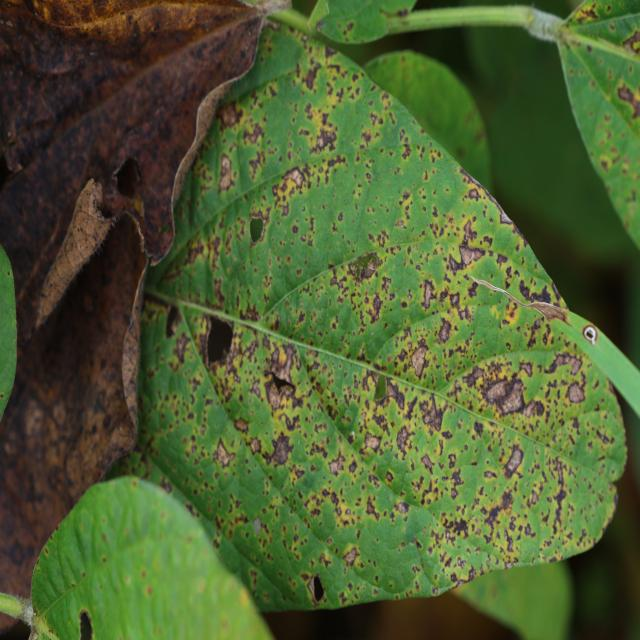Bacterial_Blight: (211, 160, 322, 306), (357, 150, 486, 271), (213, 328, 305, 473), (194, 406, 288, 537), (389, 236, 495, 348), (397, 416, 493, 531), (330, 486, 429, 597), (522, 448, 620, 560), (375, 308, 504, 386), (347, 380, 427, 494), (227, 495, 312, 599), (480, 222, 565, 310), (478, 478, 544, 557), (184, 391, 243, 473), (344, 236, 397, 319), (298, 361, 353, 440), (461, 360, 534, 418), (564, 407, 626, 475), (191, 310, 237, 368), (262, 342, 300, 405), (330, 474, 371, 531), (314, 116, 356, 167), (419, 394, 446, 433), (346, 251, 379, 282), (544, 350, 583, 376), (379, 378, 405, 413), (394, 187, 416, 227), (247, 210, 269, 242), (218, 153, 235, 192), (217, 102, 241, 129), (301, 62, 321, 91), (242, 120, 264, 146), (411, 343, 428, 376), (173, 332, 189, 365), (165, 304, 181, 337), (362, 431, 382, 454), (567, 381, 586, 404), (369, 229, 390, 249), (342, 546, 358, 566), (467, 187, 481, 200), (146, 585, 153, 596), (412, 244, 418, 251), (0, 393, 5, 399), (7, 270, 11, 276), (327, 2, 327, 5)
Soybean: (119, 14, 634, 619)
